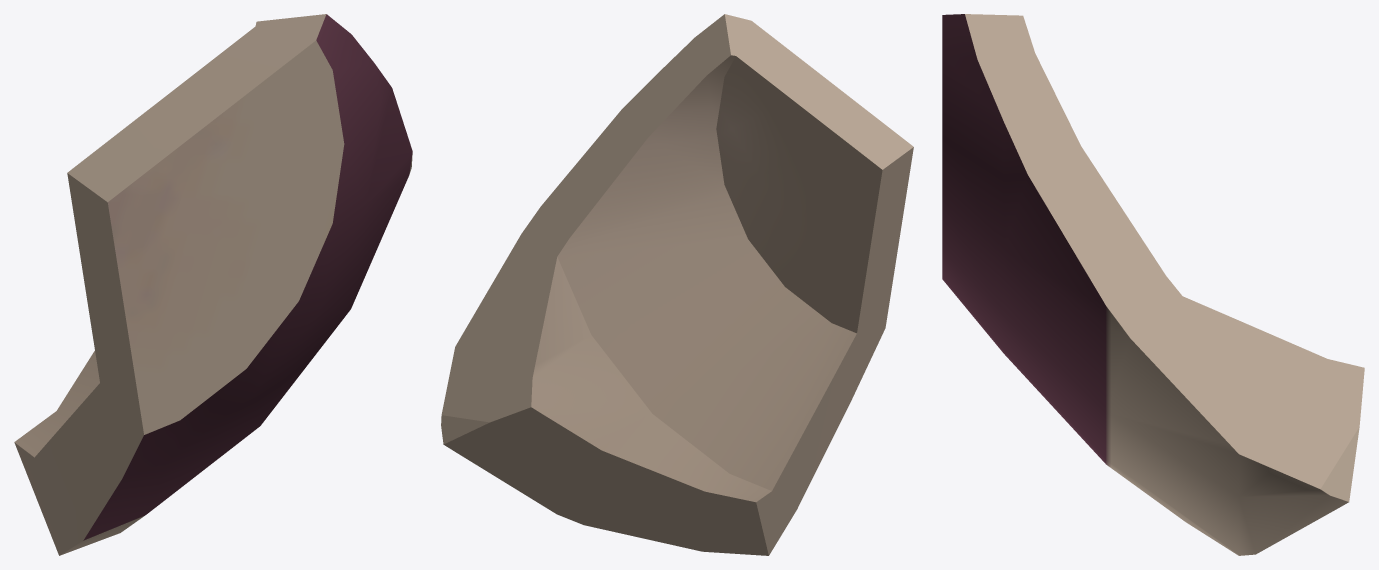
File: Pot_Cell1.fbx
3 renders of one model, left to right at view 1: azimuth 30°, elevation 25°; view 2: azimuth 150°, elevation 25°; view 3: azimuth 270°, elevation 25°, orthographic. The views are drawn at different scales.
Parts seen in each view (by area): view 1: jar1_cell; view 2: jar1_cell; view 3: jar1_cell.
Boxes of the visible parts, left/top/right/bottom form: jar1_cell: left=14, top=14, right=412, bottom=555; jar1_cell: left=441, top=14, right=913, bottom=555; jar1_cell: left=942, top=14, right=1364, bottom=555.
Size of the model in its own units: 104 by 135 by 93.92.
